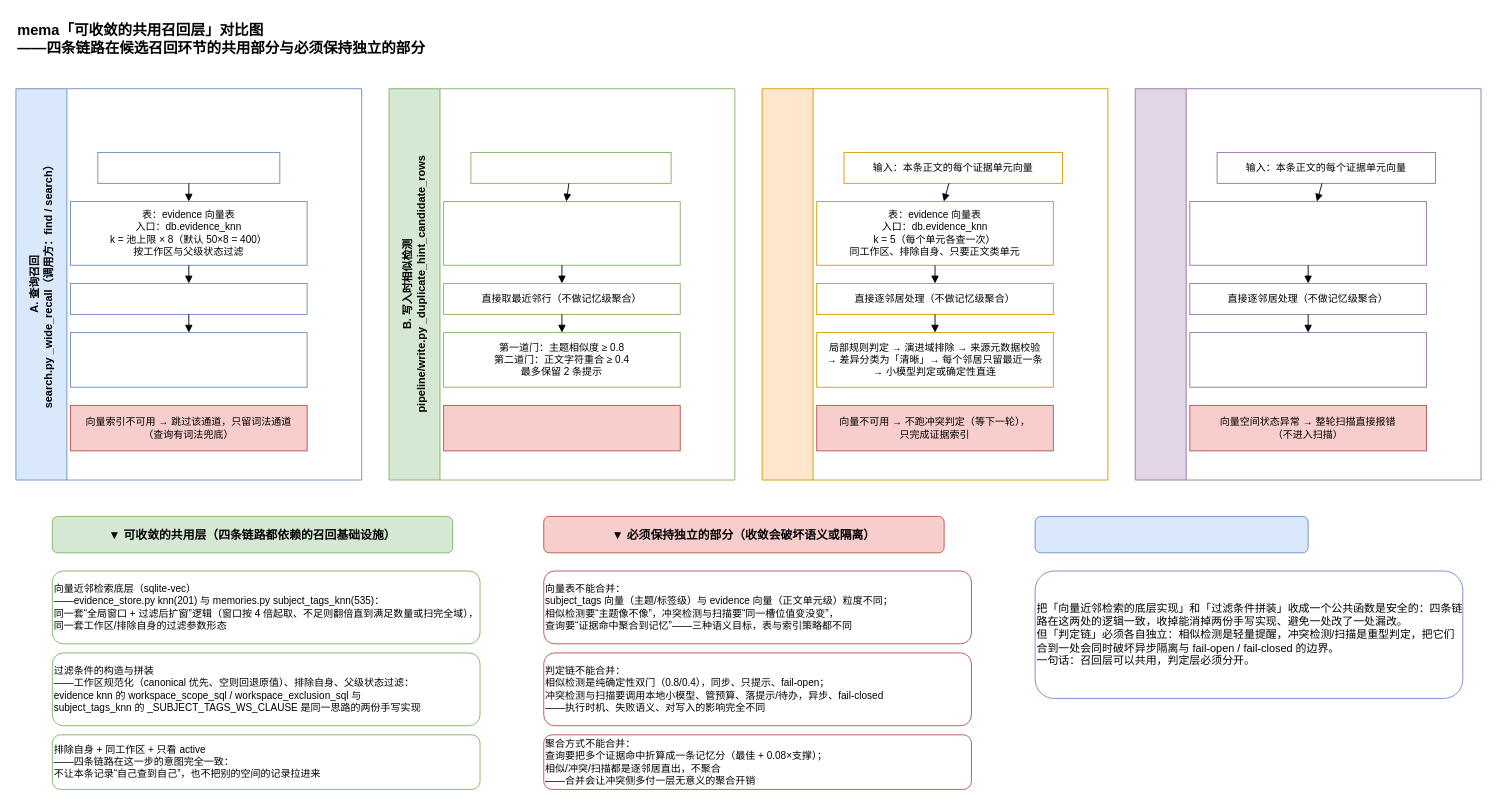
Image size: 1497x805. Some labels were removed from this diagram. Each missing label, with the box of its shape:
C. 写入时冲突检测 pipeline/evidence.py process_conflicts: (761, 88, 1108, 480)
D. 冲突扫描 scan_pipeline.py _process_memory: (1134, 88, 1481, 480)
RRF 融合 → 软重排 → 相关性下限过滤（8.1） → 分页返回: (70, 332, 307, 387)
同 C 的确定性过滤链 → 只留正文类前 3 名 机器可判 → 差异分类「清晰」记机器清除 → 其余进待办队列: (1189, 332, 1426, 387)
向量不可用 → 降级为扫描同工作区 活跃记忆的 subject/tags 行（上限 500）: (443, 404, 680, 451)
按记忆聚合：最佳单元分 + 0.08×支撑单元数: (70, 283, 307, 314)
结论: (1034, 516, 1308, 553)
表：evidence 向量表 入口：db.evidence.knn k = 10 + 1（每个单元各查一次） 同工作区、排除自身、只要正文类单元: (1189, 201, 1426, 265)
表：subject_tags 向量表 入口：db.subject_tags_knn k = 10 按同工作区过滤、排除自身: (443, 201, 680, 265)
输入：query 向量: (97, 152, 280, 183)
输入：本条的 subject + 排序后 tags 向量: (470, 152, 671, 183)
